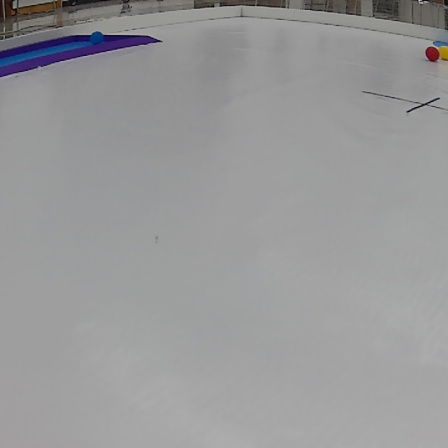blue: (91, 32, 105, 42)
blue_aim: (3, 31, 161, 80)
blue_base: (432, 37, 448, 47)
red: (426, 46, 439, 64)
yellow: (440, 45, 447, 60)
